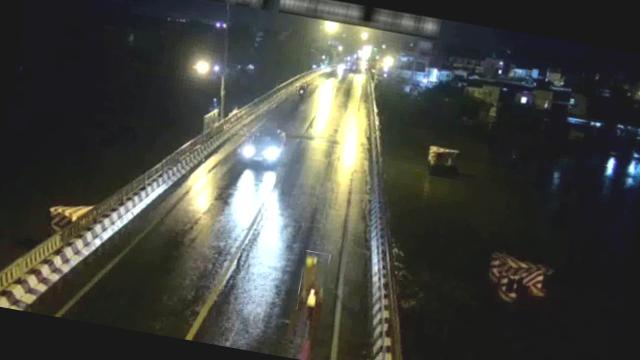Bike: (296, 250, 331, 312), (296, 84, 306, 96)
